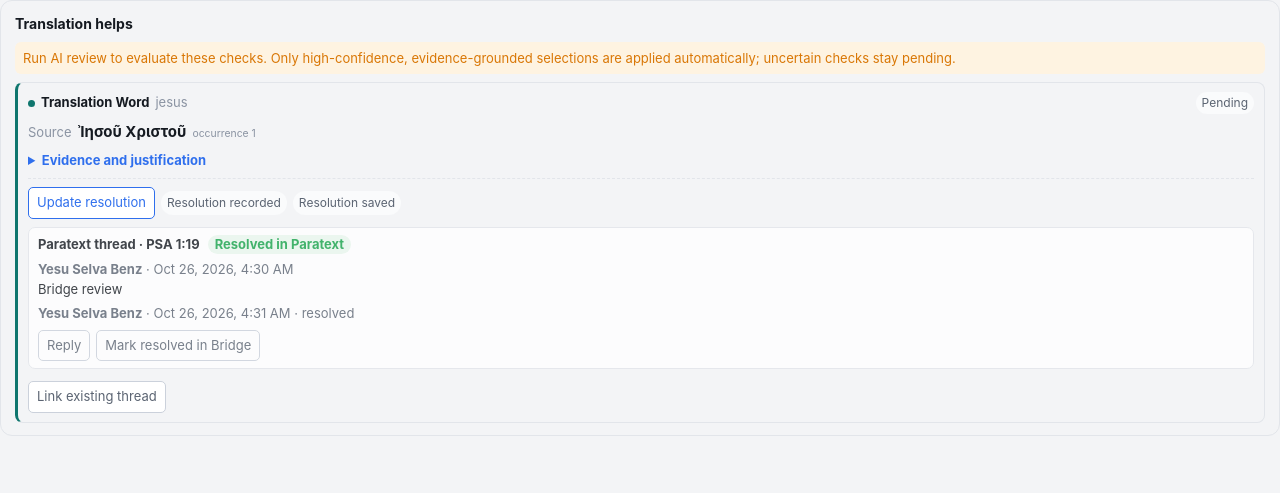
Test: TranslationHelpsReview: Mark resolved in Bridge (#358 f) › updates the card at once: the click's record replaces the old one and the offer goes
The image size is (1280, 493).
Click the button "Mark resolved in Bridge": (178, 345) [96, 330, 260, 361]
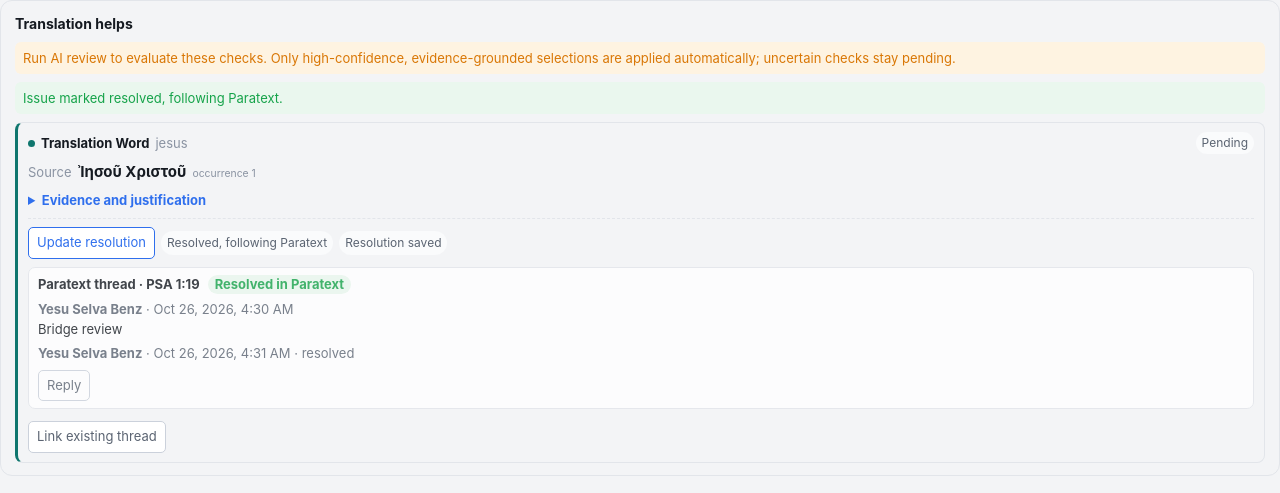
Result: the text "Resolved, following Paratext" is shown at [161, 231, 333, 255]
Result: the button "Mark resolved in Bridge" is gone
